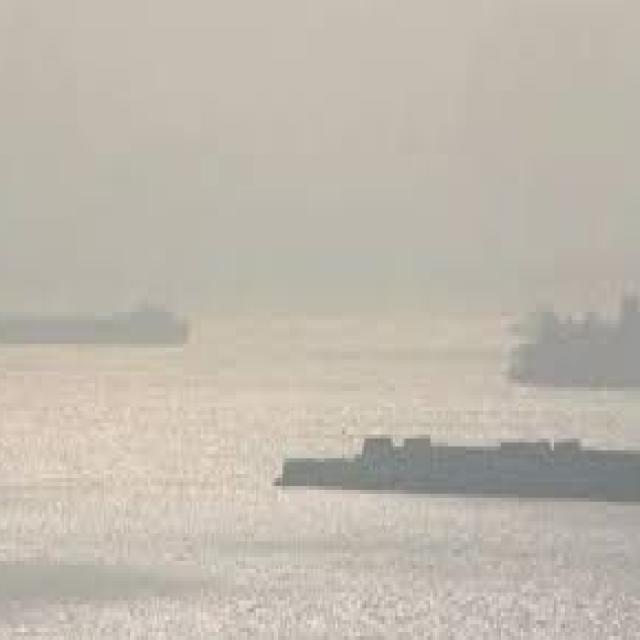cargoship: (276, 407, 640, 510), (507, 292, 640, 383), (0, 292, 192, 348)
